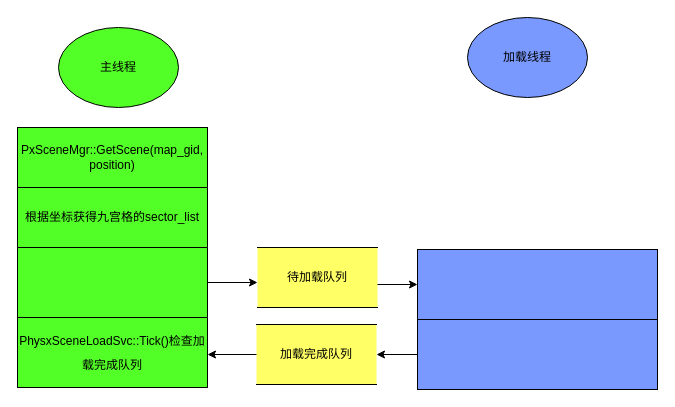
The diagram is 675 pixels wide and 407 high, and some of its shapes have lost their labels. Here are the shapes that lost their labels. From the top down, the centre of each, then its label:
(x=112, y=282): 放入待加载队列
(x=537, y=284): PhysxSceneLoadSvc::ProcessAsyncLoad()检查待加载队列
(x=537, y=354): PxSectorLoader::LoadScene()
